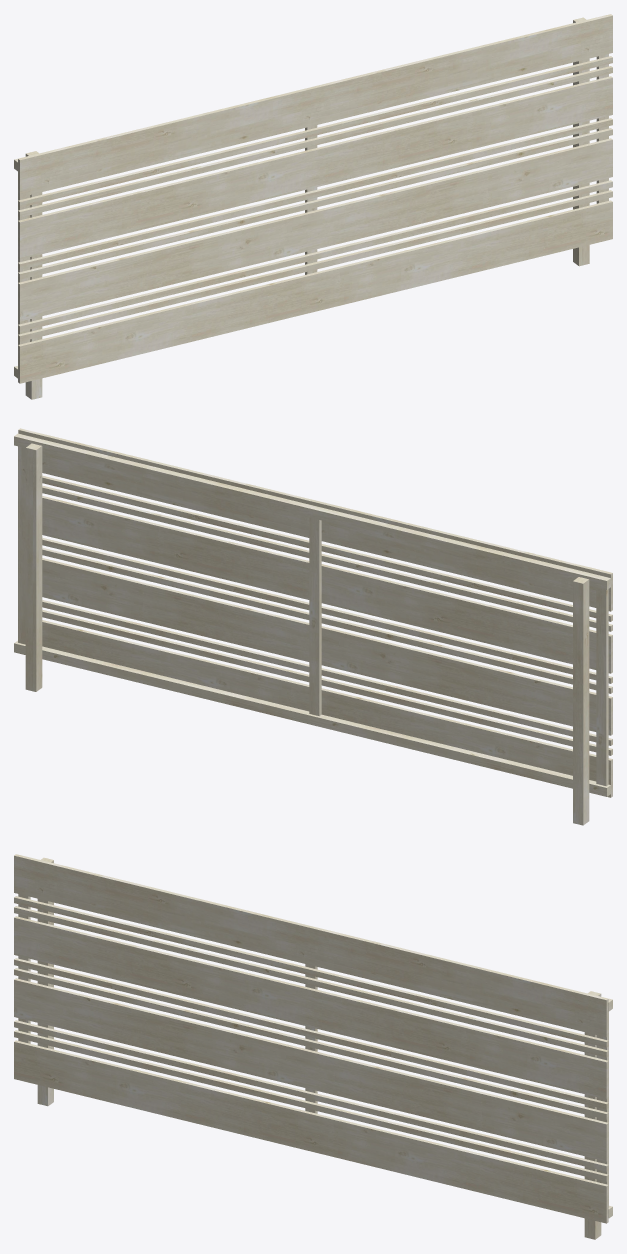
Rendered from EAF-plus-120-18_w1999-h800_whitepine.fbx.
3 renders of one model, top to bottom at view 1: azimuth 30°, elevation 25°; view 2: azimuth 150°, elevation 25°; view 3: azimuth 330°, elevation 25°, orthographic.
Visible parts, largest first — view 1: EAF-plus-120-18_w1999-h800_chacoalgray.005; view 2: EAF-plus-120-18_w1999-h800_chacoalgray.005; view 3: EAF-plus-120-18_w1999-h800_chacoalgray.005.
Part boxes in pixels (x1,y1,x2,y2): EAF-plus-120-18_w1999-h800_chacoalgray.005: (14, 14, 612, 399); EAF-plus-120-18_w1999-h800_chacoalgray.005: (14, 428, 612, 825); EAF-plus-120-18_w1999-h800_chacoalgray.005: (14, 854, 612, 1239).
Size of the model in its own units: 200 by 80 by 7.
Materials: 1 (1 with a texture image).
